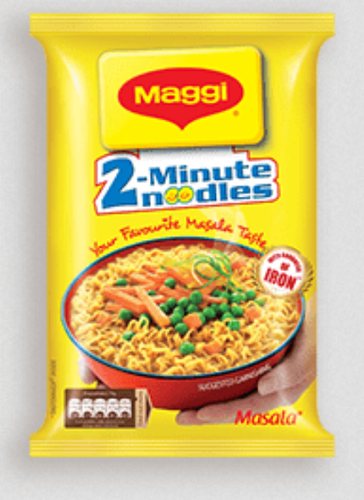maggi: (41, 18, 319, 454)
